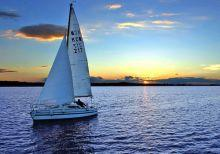fanchuan: (23, 3, 100, 120)
